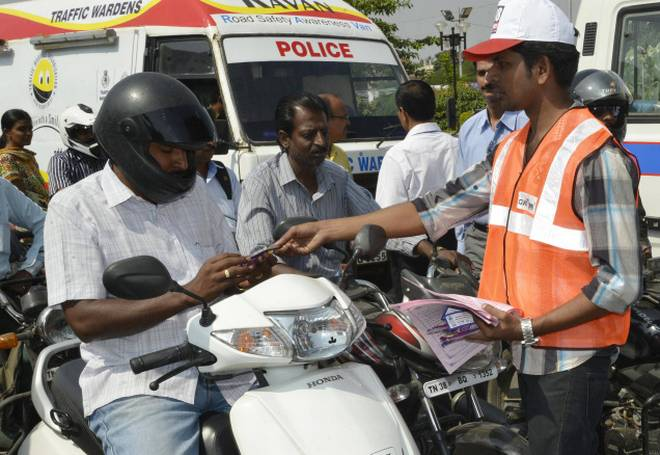helmet: (92, 58, 217, 213)
